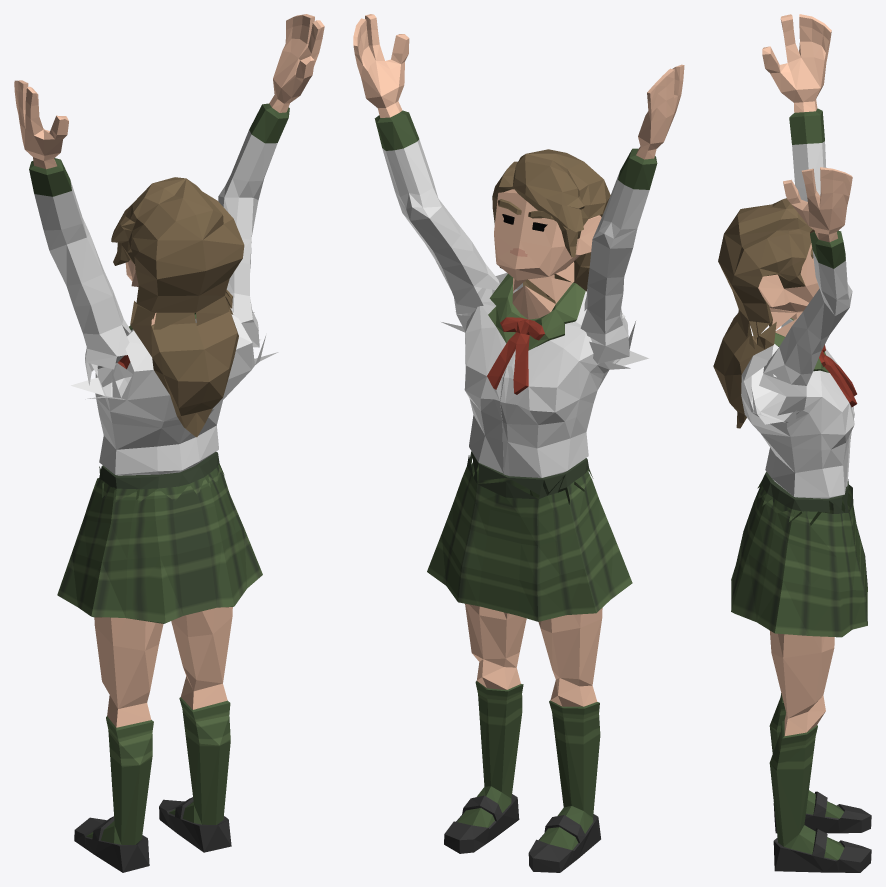
File: Demon_SchoolGirl_01_cheer.obj
3 views of the same model, side by side, from view 1: azimuth 30°, elevation 25°; view 2: azimuth 150°, elevation 25°; view 3: azimuth 270°, elevation 25° (orthographic). The views are drawn at different scales.
Parts seen in each view (by area): view 1: Demon_SchoolGirl_01_cheer; view 2: Demon_SchoolGirl_01_cheer; view 3: Demon_SchoolGirl_01_cheer.
Boxes of the visible parts, box(x1,y1,x2,y2) form: Demon_SchoolGirl_01_cheer: box(14, 14, 324, 872); Demon_SchoolGirl_01_cheer: box(353, 14, 684, 872); Demon_SchoolGirl_01_cheer: box(713, 14, 871, 872).
Bounding box in the file's own units: 0.8675 × 2.18 × 0.4081.
1 material, 1 textured.
